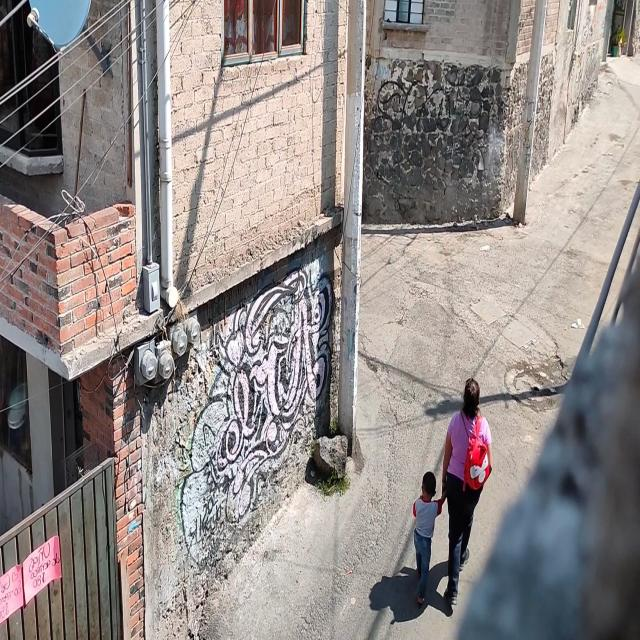adult: (441, 376, 494, 614)
child: (413, 471, 447, 608)
